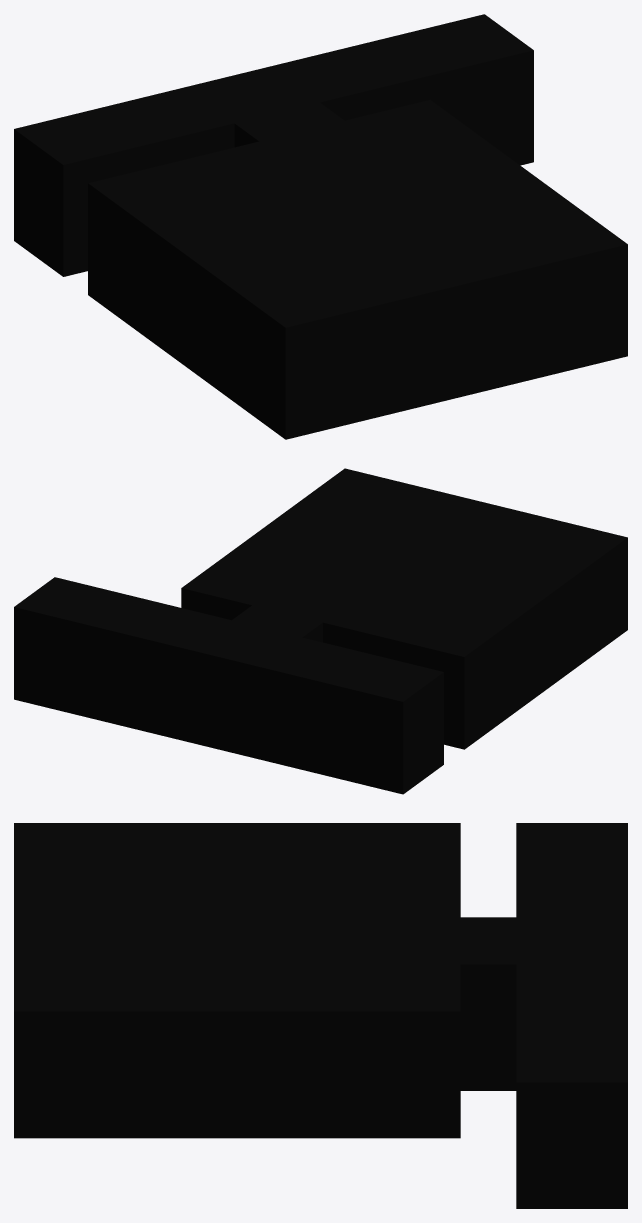
File: dungeon.gltf
3 views of the same model, one above another, from view 1: azimuth 30°, elevation 25°; view 2: azimuth 150°, elevation 25°; view 3: azimuth 270°, elevation 25° (orthographic). The views are drawn at different scales.
Visible parts, largest first — view 1: Plane; view 2: Plane; view 3: Plane.
Part boxes in pixels (x1,y1,x2,y2): Plane: [14, 14, 627, 439]; Plane: [14, 468, 627, 794]; Plane: [14, 823, 627, 1208].
Bounding box in the file's own units: 11 × 2.5 × 11.
Materials: 1 (1 with a texture image).
